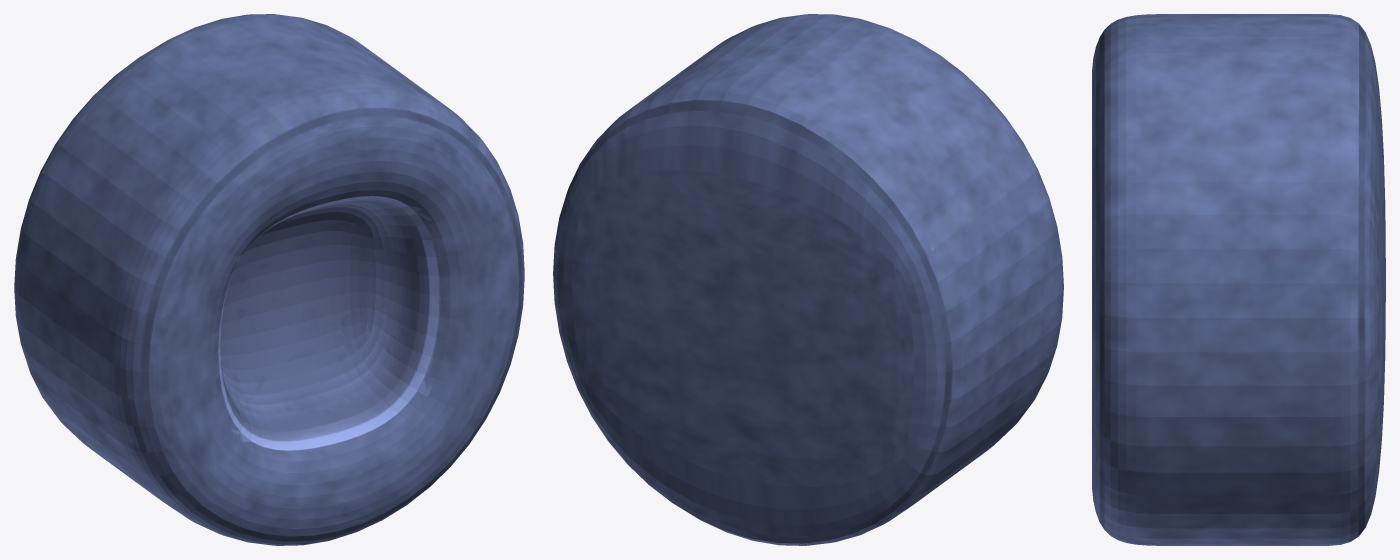
The model's file is ArrowsShooter.fbx.
3 renders of one model, left to right at view 1: azimuth 30°, elevation 25°; view 2: azimuth 150°, elevation 25°; view 3: azimuth 270°, elevation 25°, orthographic. The views are drawn at different scales.
Parts seen in each view (by area): view 1: Cube; view 2: Cube; view 3: Cube.
Part boxes in pixels (x1,y1,x2,y2): Cube: (14, 14, 524, 545); Cube: (553, 14, 1063, 545); Cube: (1092, 14, 1385, 545).
Bounding box in the file's own units: 39.55 × 41.9 × 22.89.
1 material, 1 textured.
